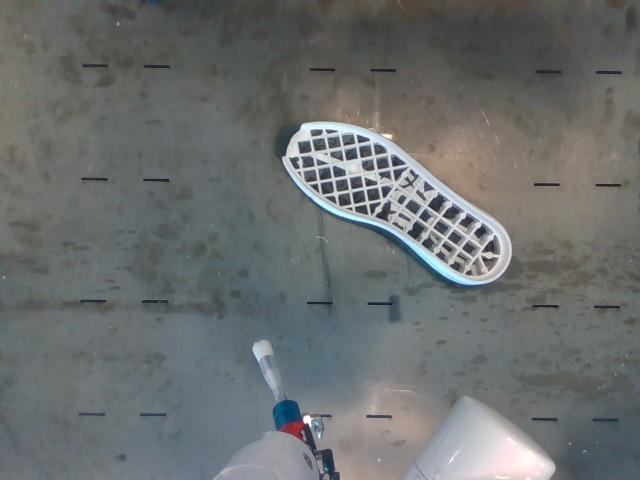shoes: (277, 122, 510, 281)
